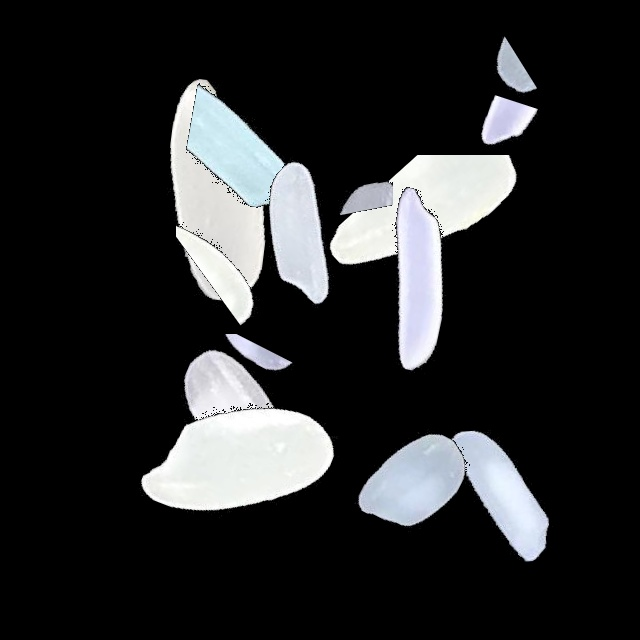Broken: (147, 63, 397, 231), (321, 155, 571, 313), (101, 334, 351, 434), (176, 97, 272, 347), (458, 23, 552, 273), (311, 45, 393, 295), (357, 35, 607, 112), (280, 114, 357, 364)
Full: (119, 293, 369, 543), (91, 66, 341, 316), (289, 156, 539, 406), (115, 338, 365, 588), (179, 105, 429, 355), (377, 372, 627, 622), (289, 352, 539, 602)
